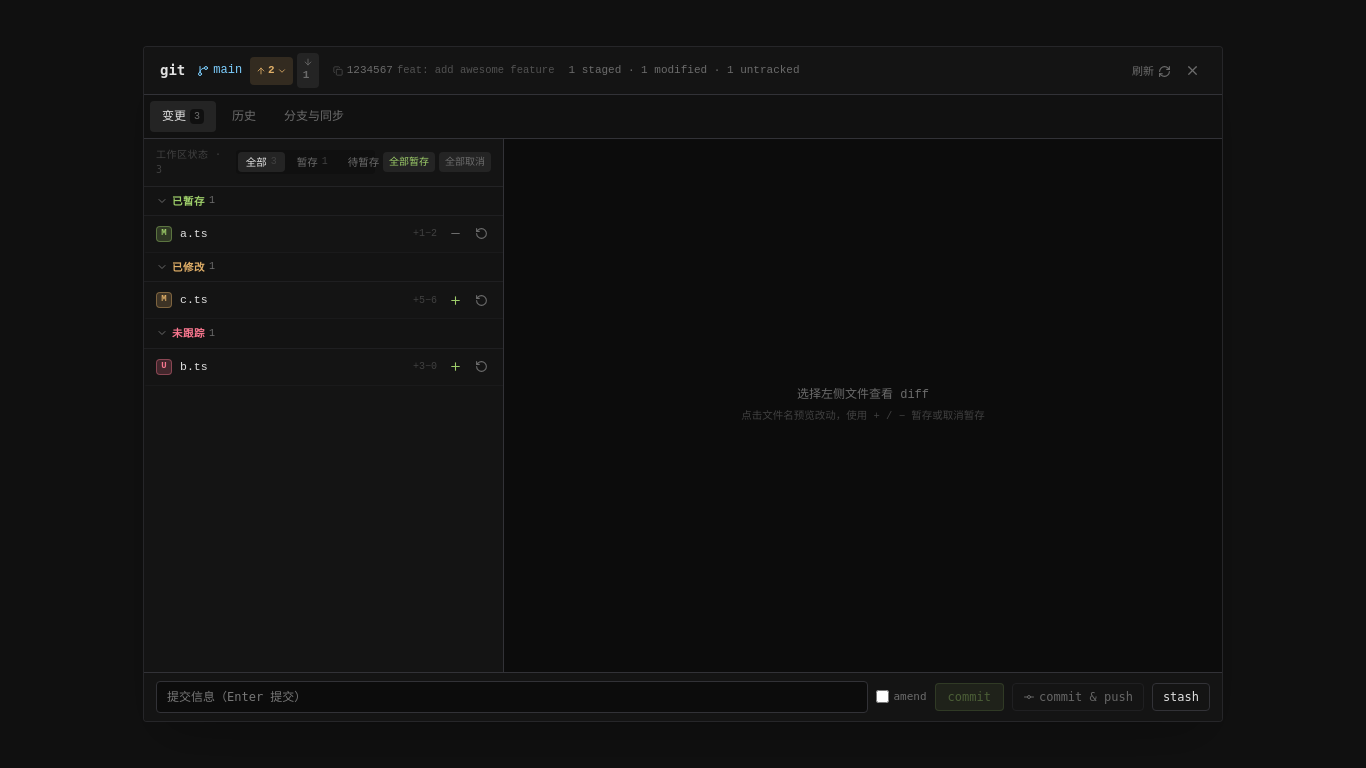
Test: GitPanel — diff 预览 › 选择文件 → gitDiffs；patch 渲染为 diff 行
The image size is (1366, 768).
Click the text "a.ts": [194, 234] box [180,227,208,240]
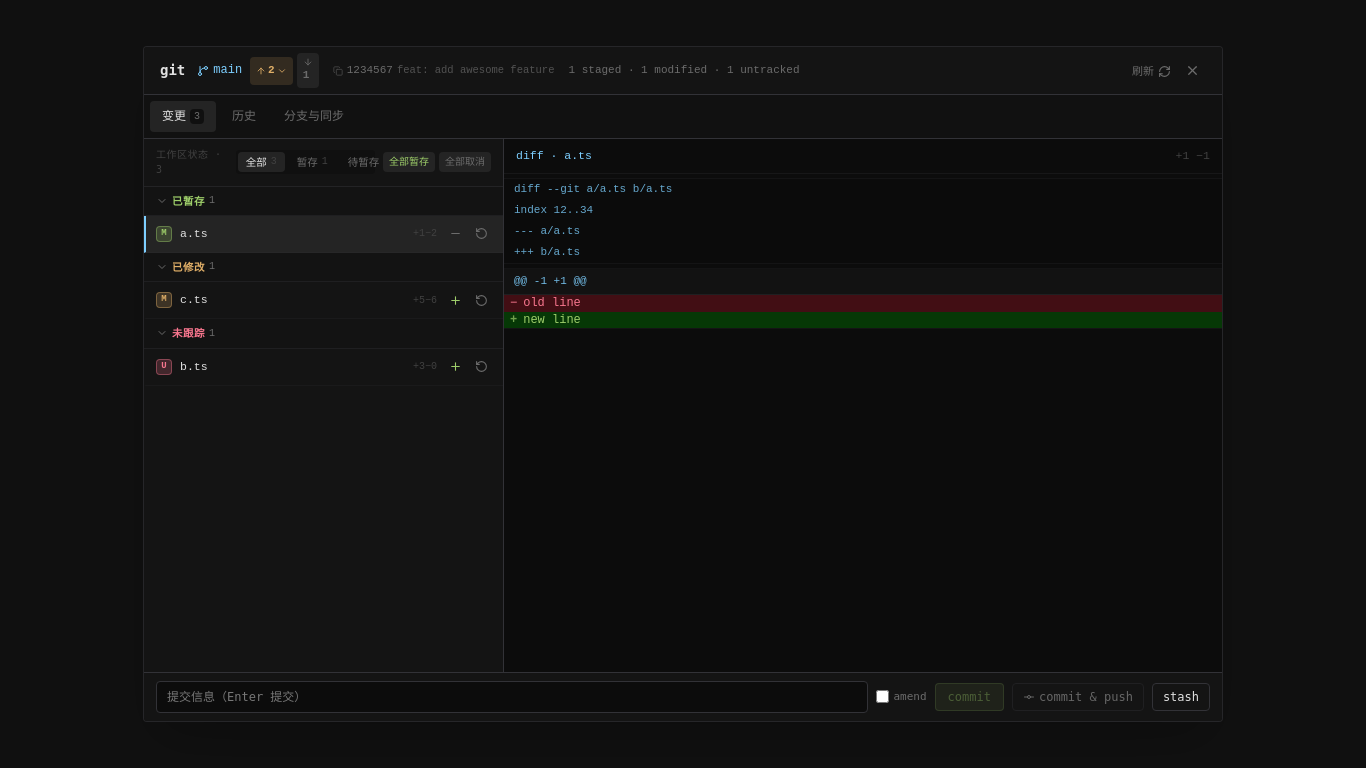
Expected: the text "diff · a.ts" is shown, [516,147,592,164]
Expected: the text "old line" is shown, [523,296,581,310]
Expected: the text "new line" is shown, [523,313,581,327]
